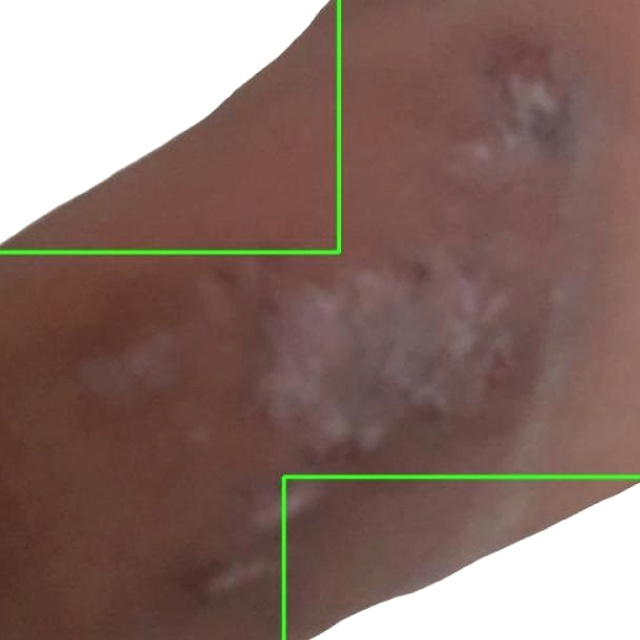Eczema: (0, 0, 339, 252), (284, 476, 639, 639)
